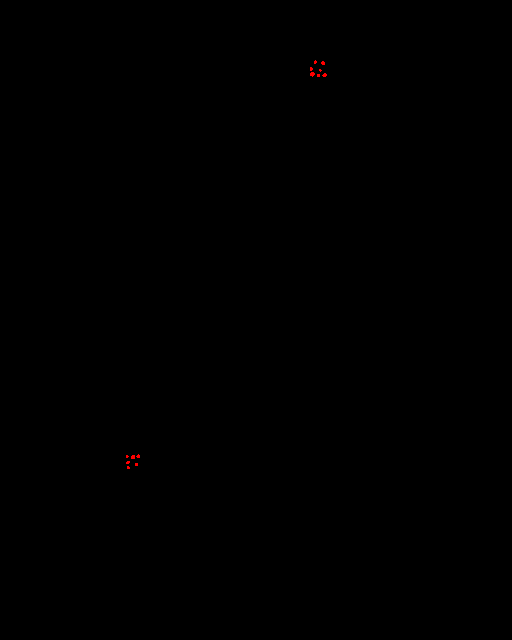Target: (310, 72, 315, 77), (322, 73, 327, 77), (321, 61, 325, 65), (136, 454, 140, 458), (131, 455, 135, 459), (314, 60, 317, 64), (310, 67, 313, 71), (126, 461, 130, 464), (319, 69, 322, 72), (317, 74, 320, 77), (126, 455, 129, 458), (135, 463, 138, 466), (127, 466, 130, 469)
